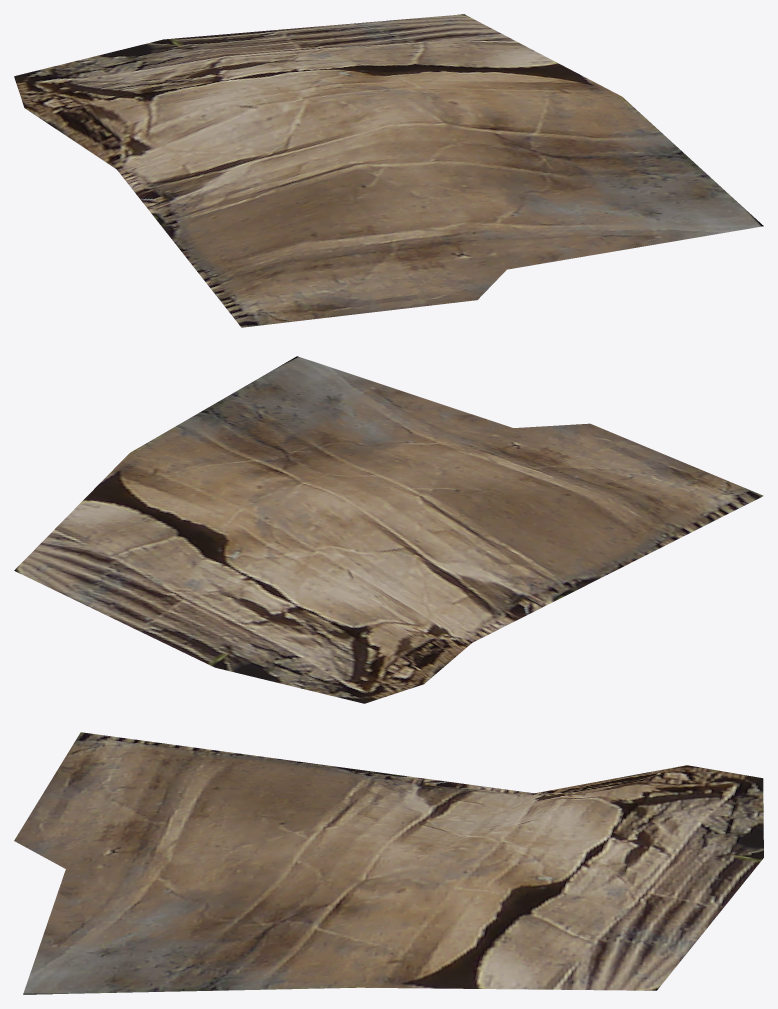
File: Garbage1G_LOD1.fbx
The picture shows the model from 3 angles, top to bottom: view 1: azimuth 30°, elevation 25°; view 2: azimuth 150°, elevation 25°; view 3: azimuth 270°, elevation 25°; orthographic projection. The views are drawn at different scales.
Parts seen in each view (by area): view 1: polySurface862; view 2: polySurface862; view 3: polySurface862.
Part boxes in pixels (x1=…): polySurface862: x1=14, y1=14, x2=763, y2=327; polySurface862: x1=14, y1=356, x2=763, y2=703; polySurface862: x1=14, y1=732, x2=763, y2=994.
Size of the model in its own units: 0.8196 by 0.0759 by 0.9637.
